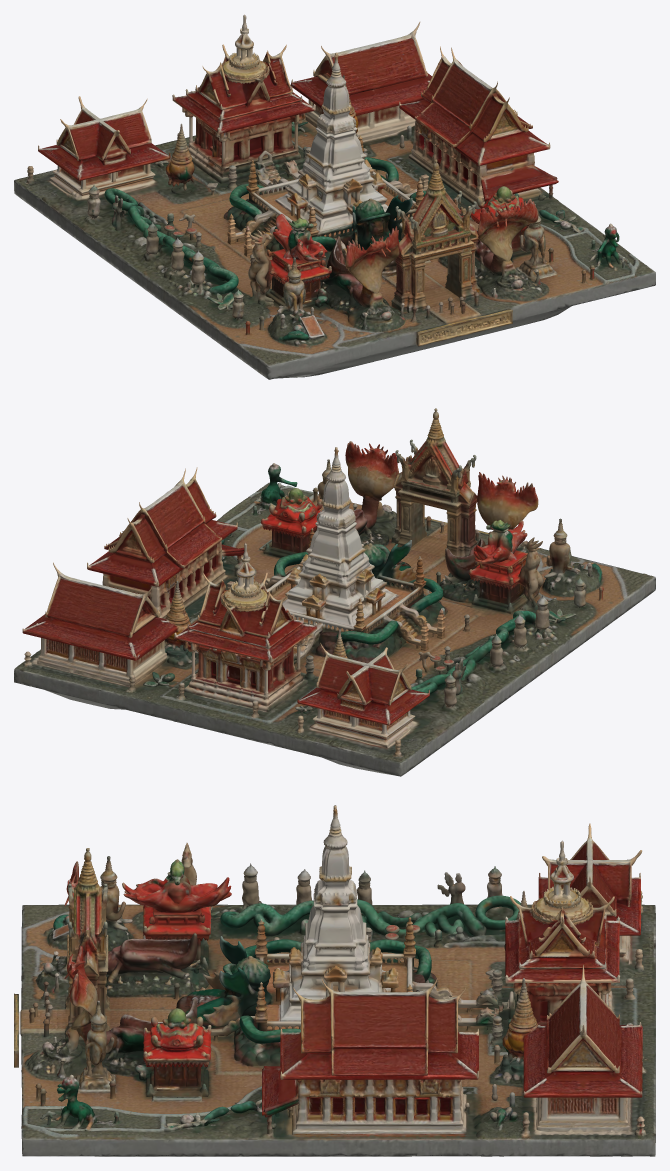
The model's file is temple7.glb.
3 renders of one model, top to bottom at view 1: azimuth 30°, elevation 25°; view 2: azimuth 150°, elevation 25°; view 3: azimuth 270°, elevation 25°, orthographic. The views are drawn at different scales.
Visible parts, largest first — view 1: tripo_node_9bc22792-0c39-474c-9ff0-71ee1e5a6912; view 2: tripo_node_9bc22792-0c39-474c-9ff0-71ee1e5a6912; view 3: tripo_node_9bc22792-0c39-474c-9ff0-71ee1e5a6912.
Part boxes in pixels (bbox=[...]): tripo_node_9bc22792-0c39-474c-9ff0-71ee1e5a6912: bbox=[14, 14, 655, 379]; tripo_node_9bc22792-0c39-474c-9ff0-71ee1e5a6912: bbox=[14, 408, 655, 776]; tripo_node_9bc22792-0c39-474c-9ff0-71ee1e5a6912: bbox=[14, 805, 655, 1156].
Bounding box in the file's own units: 0.8523 × 0.4232 × 0.9798.
1 material, 1 textured.
